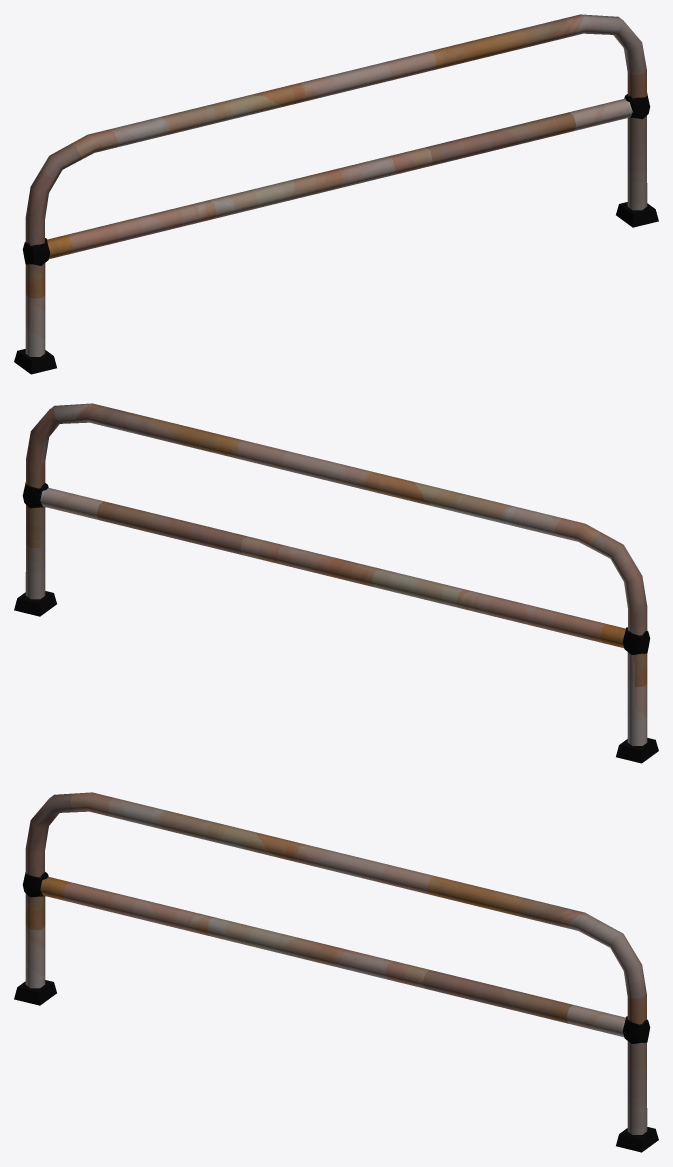
The model's file is GuardRail.fbx.
3 renders of one model, top to bottom at view 1: azimuth 30°, elevation 25°; view 2: azimuth 150°, elevation 25°; view 3: azimuth 330°, elevation 25°, orthographic.
Visible parts, largest first — view 1: GuardRail; view 2: GuardRail; view 3: GuardRail.
Part boxes in pixels (x1,y1,x2,y2): GuardRail: (14,14,658,374); GuardRail: (14,403,658,763); GuardRail: (14,792,658,1152).
Size of the model in its own units: 437 by 143 by 20.67.
